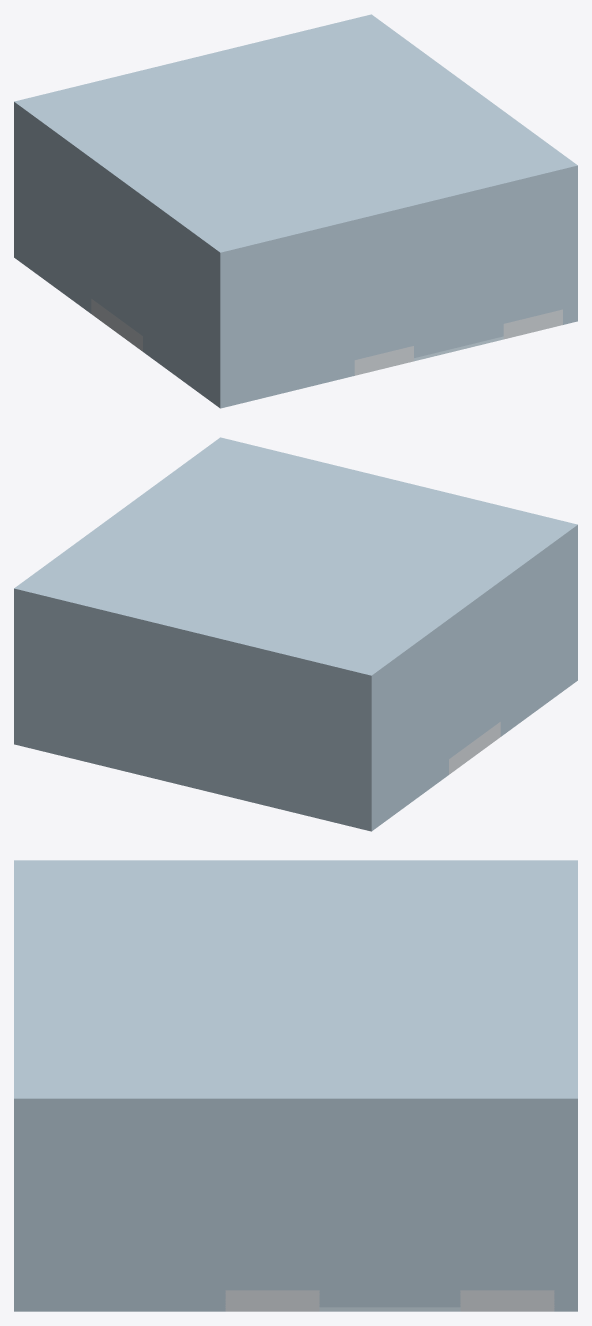
File: frozen-bend.glb
3 renders of one model, top to bottom at view 1: azimuth 30°, elevation 25°; view 2: azimuth 150°, elevation 25°; view 3: azimuth 270°, elevation 25°, orthographic. The views are drawn at different scales.
Parts seen in each view (by area): view 1: ice-rock_11, ice-rock_3, plug_frozen_south, ice-rock_2, plug_ice_west, ice-rock_6, ice-rock_4, ice-rock_7, ice-rock_1, plug_frozen_south.001, snow_3, snow_4 (+1 smaller); view 2: ice-rock_11, ice-rock_1, ice-rock_3, ice-rock_2, plug_ice_west, ice-rock_7, snow_4; view 3: ice-rock_11, plug_frozen_east, ice-rock_4, ice-rock_5, ice-rock_1, plug_frozen_east.001, snow_1, snow_5, ice_1.
Boxes of the visible parts, box(x1,y1,x2,y2) form: ice-rock_11: box(14, 14, 577, 268); ice-rock_3: box(143, 212, 354, 408); plug_frozen_south: box(354, 200, 562, 359); ice-rock_2: box(22, 124, 91, 313); plug_ice_west: box(91, 205, 142, 335); ice-rock_6: box(354, 185, 562, 250); ice-rock_4: box(563, 181, 577, 324); ice-rock_7: box(91, 174, 142, 242); ice-rock_1: box(14, 117, 22, 263); plug_frozen_south.001: box(414, 324, 503, 357); snow_3: box(354, 346, 413, 375); snow_4: box(91, 299, 142, 351); ice-rock_11: box(14, 437, 577, 691); ice-rock_1: box(14, 604, 379, 831); ice-rock_3: box(500, 540, 577, 736); ice-rock_2: box(380, 635, 448, 824); plug_ice_west: box(449, 628, 500, 758); ice-rock_7: box(449, 597, 500, 665); snow_4: box(449, 722, 500, 774); ice-rock_11: box(14, 860, 577, 1119); plug_frozen_east: box(225, 1141, 554, 1290); ice-rock_4: box(14, 1120, 225, 1311); ice-rock_5: box(225, 1120, 554, 1141); ice-rock_1: box(554, 1120, 577, 1311); plug_frozen_east.001: box(319, 1290, 460, 1307); snow_1: box(460, 1290, 554, 1311); snow_5: box(225, 1290, 319, 1311); ice_1: box(319, 1307, 460, 1311).
Bounding box in the file's own units: 12 × 5 × 12.
